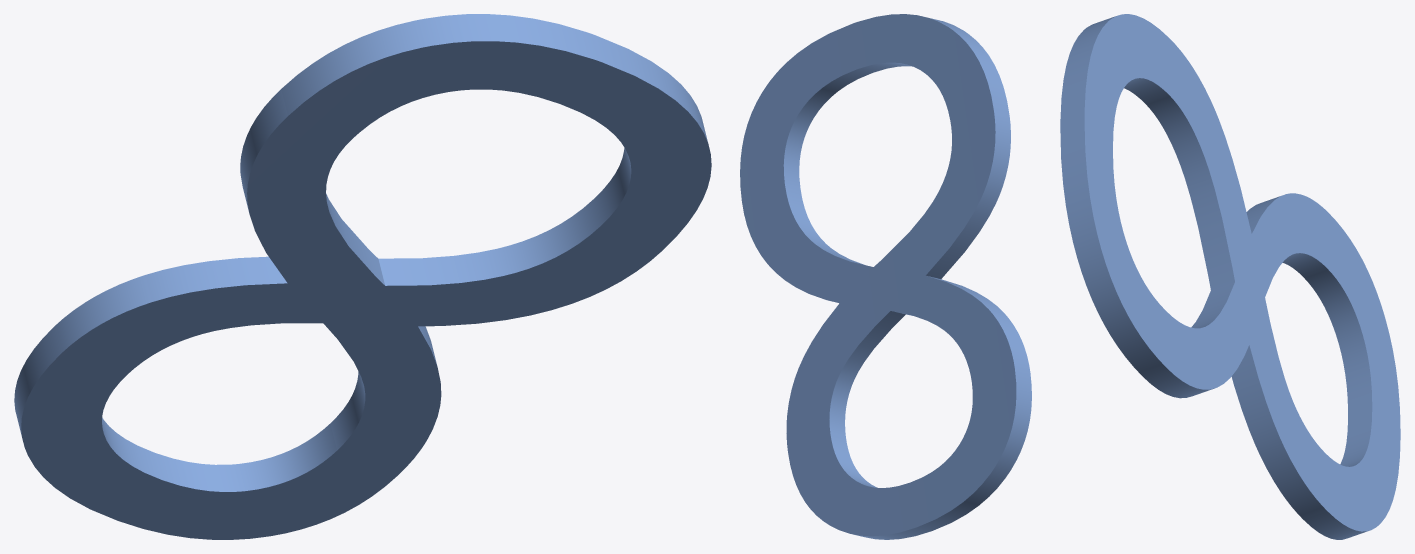
The model's file is New_Number_8.gltf.
3 renders of one model, left to right at view 1: azimuth 30°, elevation 25°; view 2: azimuth 150°, elevation 25°; view 3: azimuth 270°, elevation 25°, orthographic. The views are drawn at different scales.
Visible parts, largest first — view 1: Part 44; view 2: Part 44; view 3: Part 44.
Part boxes in pixels (x1=…): Part 44: x1=14, y1=14, x2=711, y2=539; Part 44: x1=740, y1=14, x2=1031, y2=539; Part 44: x1=1060, y1=14, x2=1400, y2=539.
Bounding box in the file's own units: 0.0046 × 0.00506 × 0.00305.
